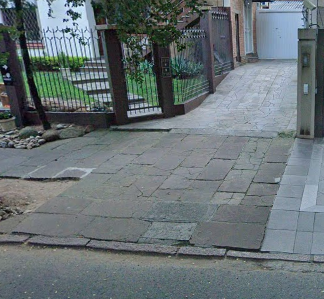vag44: (13, 211, 263, 294)
